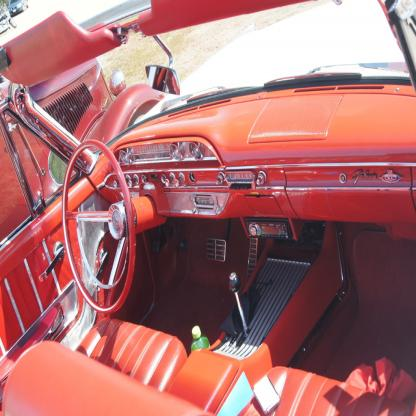Car: (1, 1, 416, 416), (9, 1, 31, 18)
